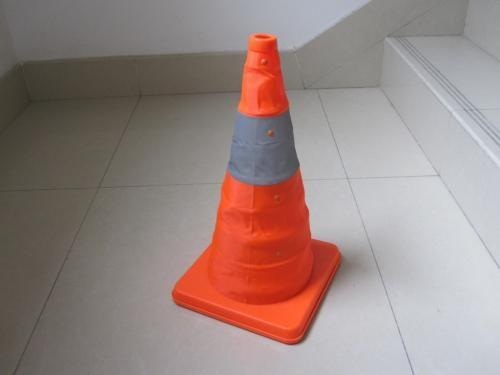cone_barrel: (188, 30, 329, 303)
